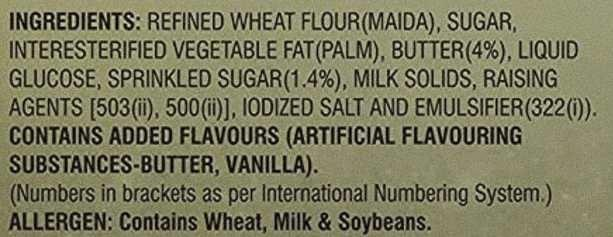ingredients: (1, 8, 603, 179)
